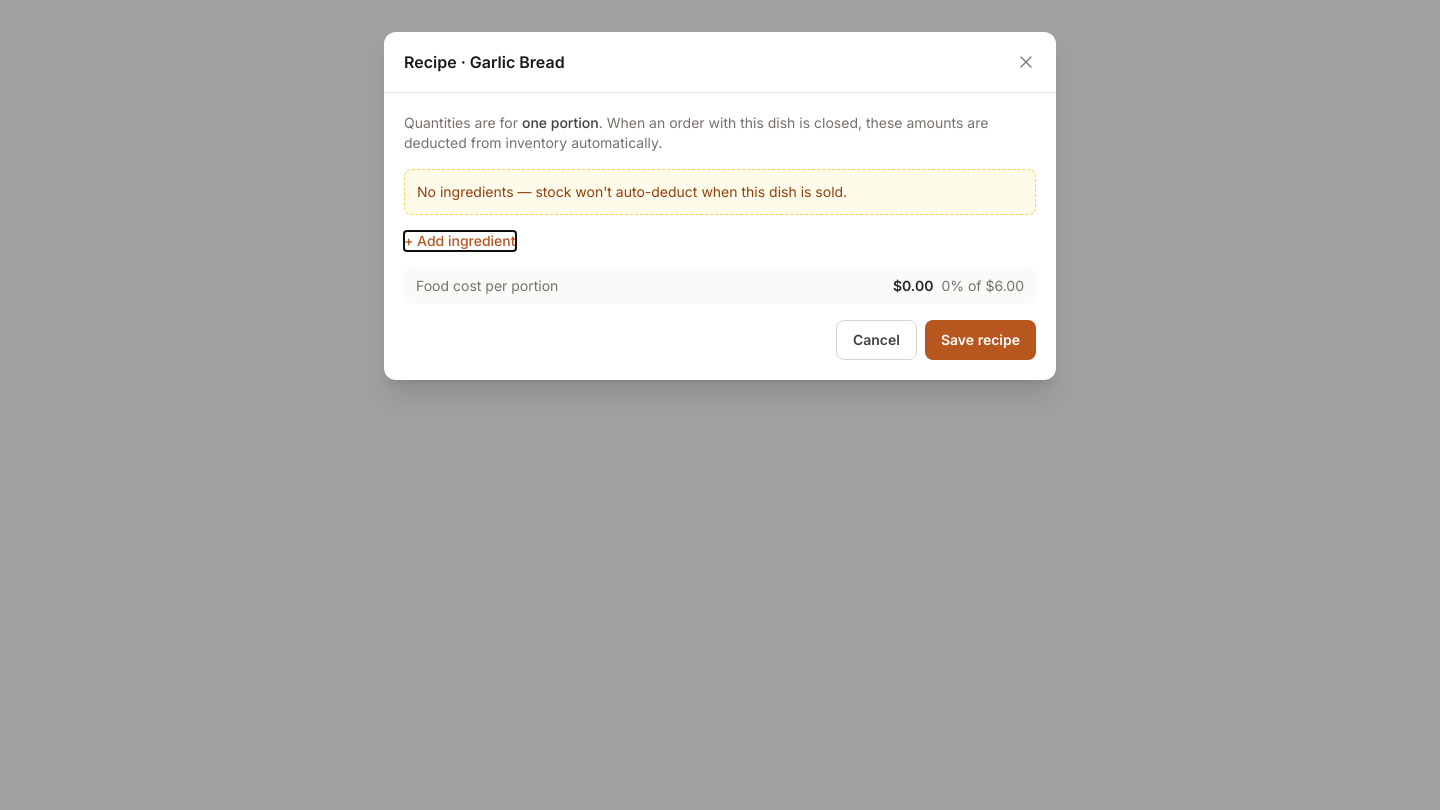
Scenario: RecipeEditor › rejects a zero-or-blank quantity on a chosen ingredient
Click the button "+ Add ingredient" at (460,241), box top-left (404, 231), bottom-right (516, 251)
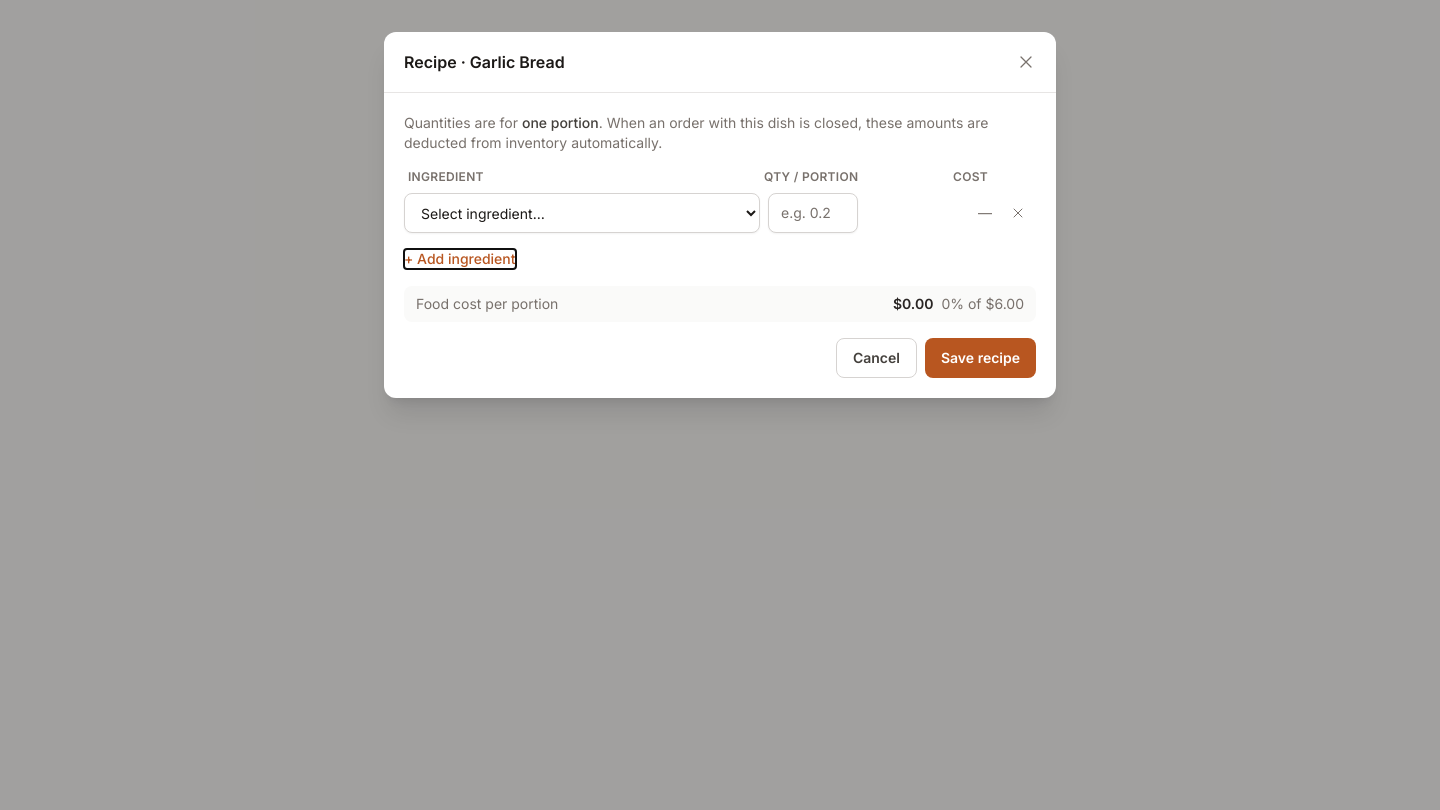
Select "Flour (kg)" in the dropdown named "Ingredient" at (582,213), box top-left (404, 193), bottom-right (760, 233)
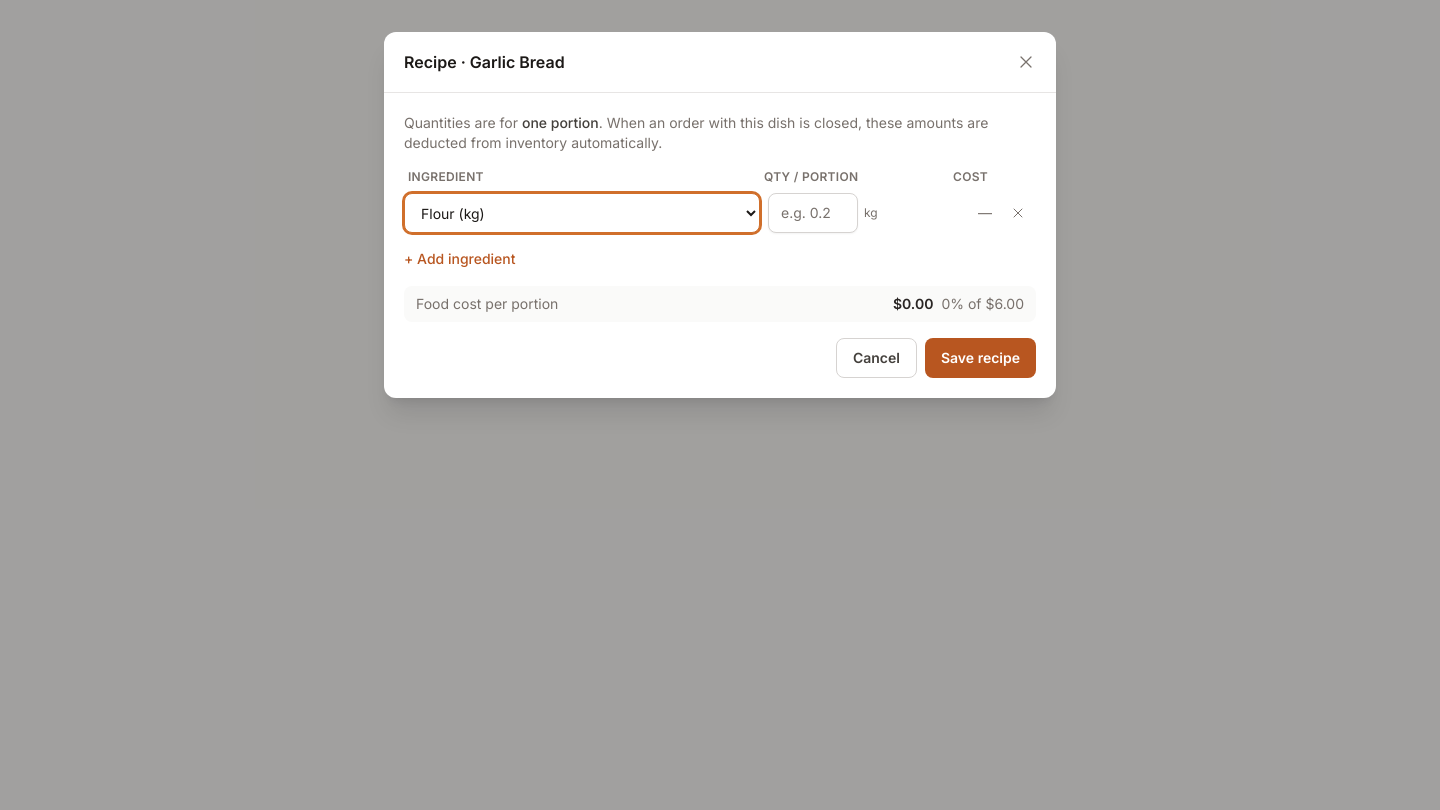
Click the button "Save recipe" at (980,358), box top-left (925, 338), bottom-right (1036, 378)
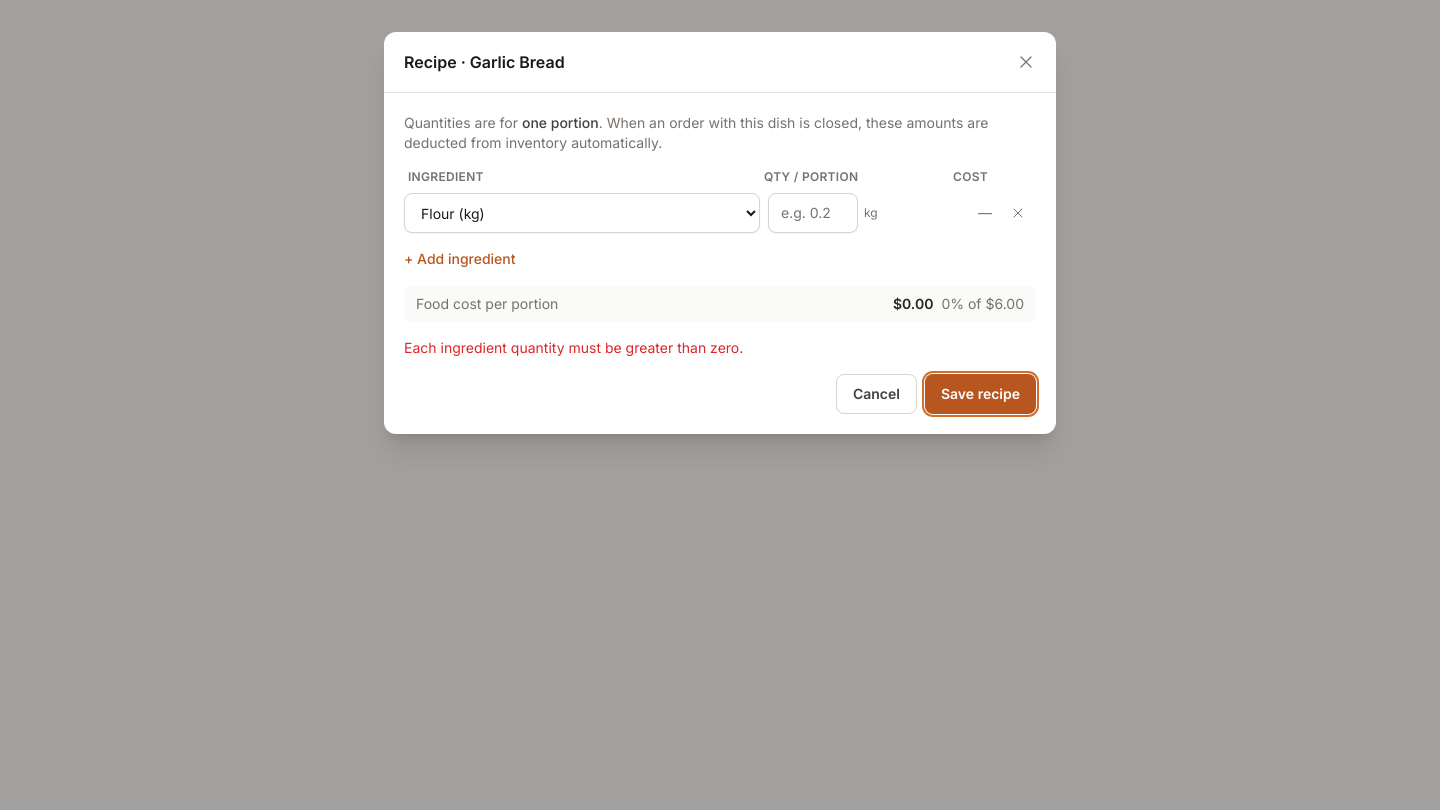
Expected: the text "Each ingredient quantity must be greater than zero." is shown, top-left (404, 339), bottom-right (743, 356)
